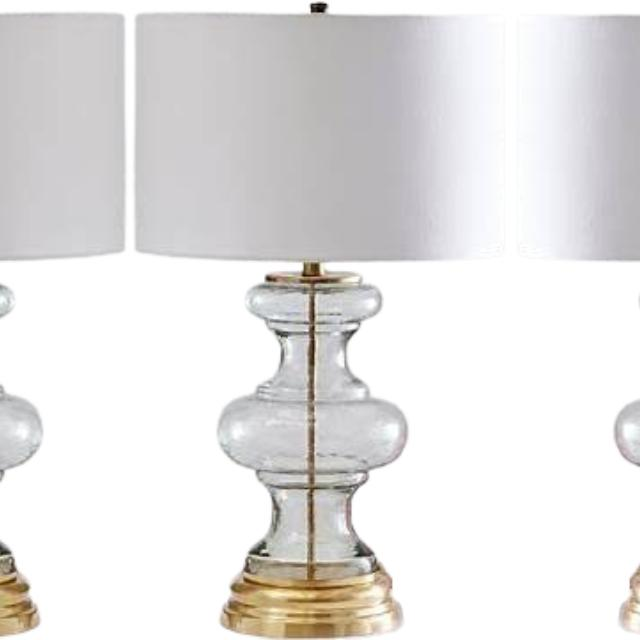lamp: (129, 0, 510, 640), (510, 0, 640, 266), (0, 0, 129, 266)
